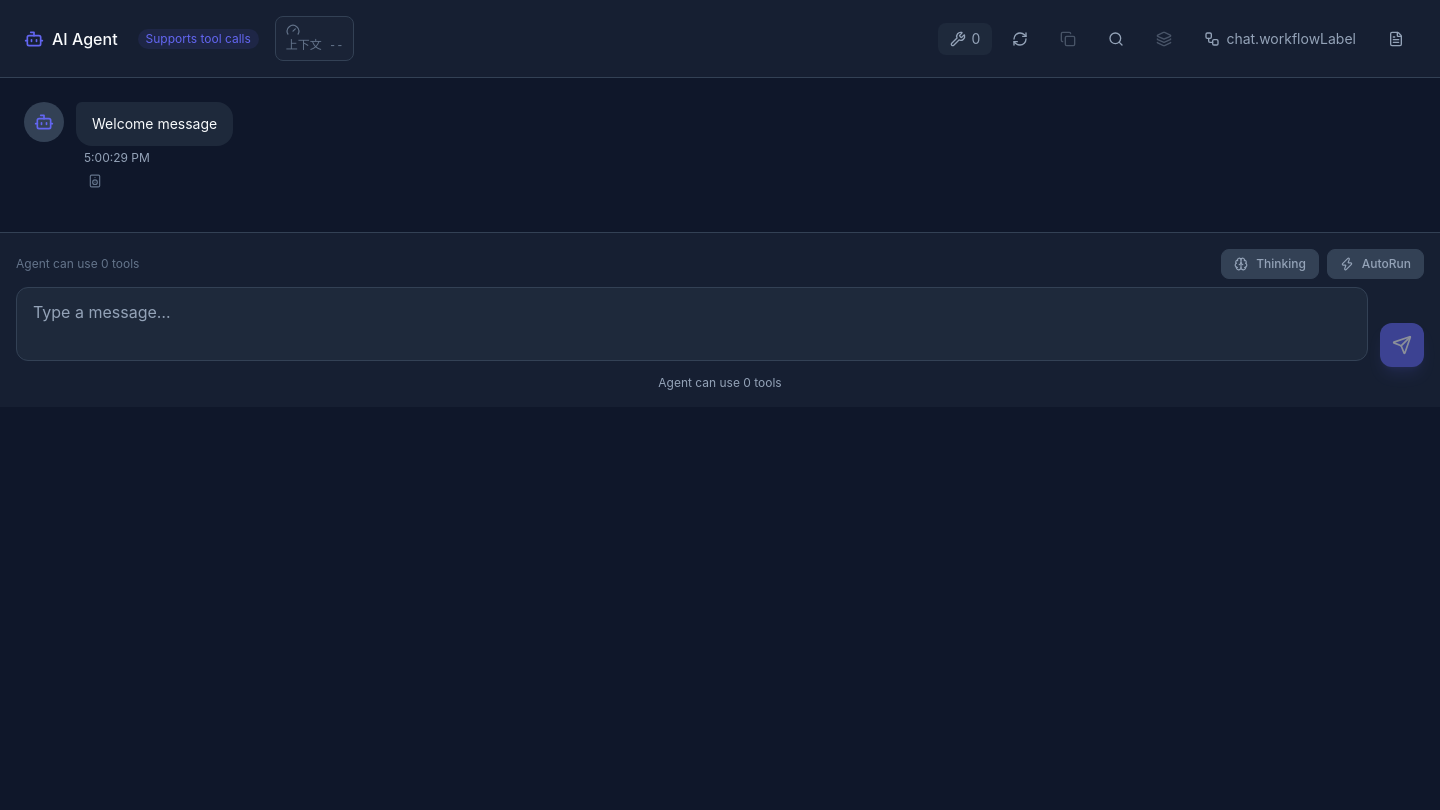
Test: AgentChat › appends the user message to the chat on send
Type "Hello" into the text box with placeholder "Type a message…". click: (692, 324)
box: [16,287,1368,361]
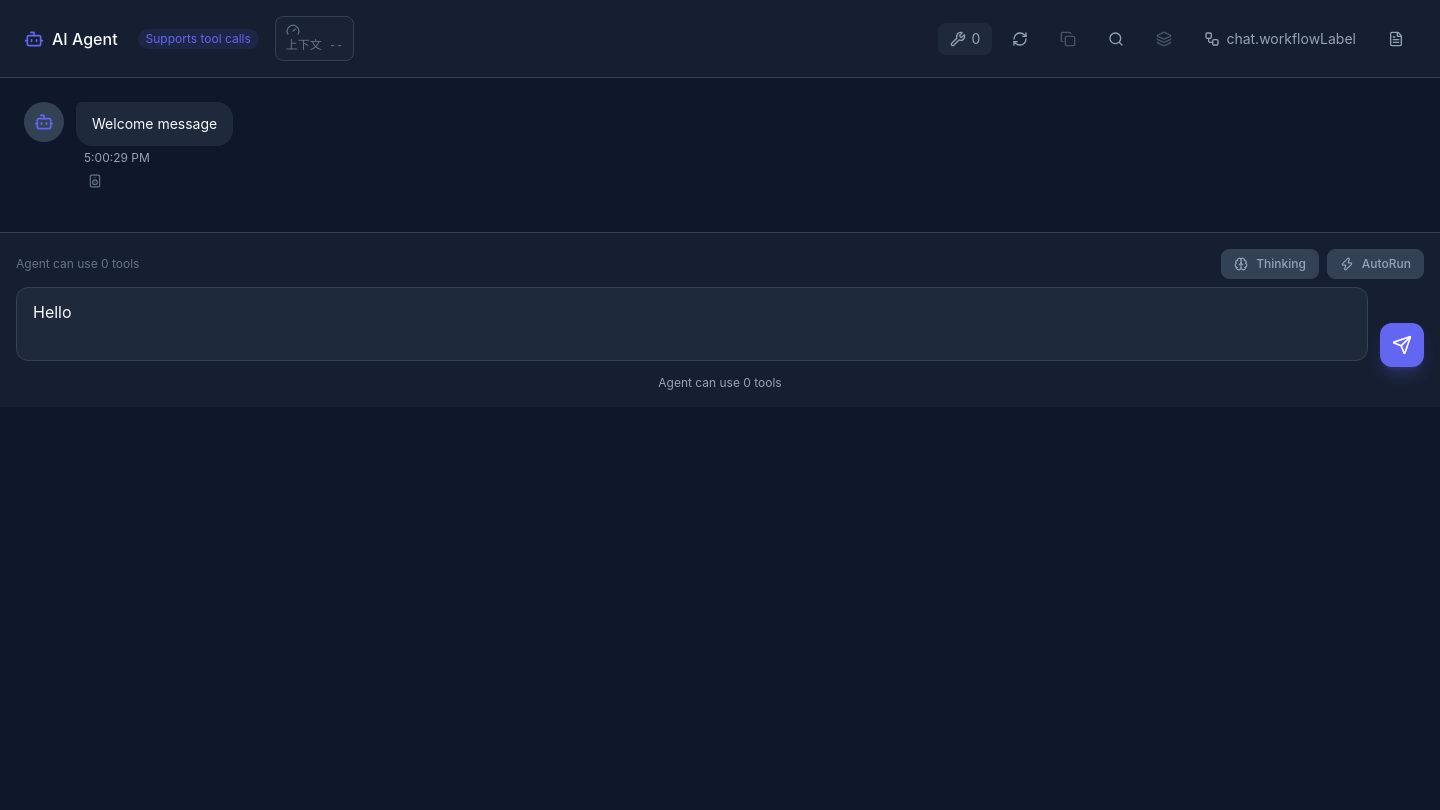
Click the button titled "Send". click: (1402, 345)
box: [1380,323,1424,367]
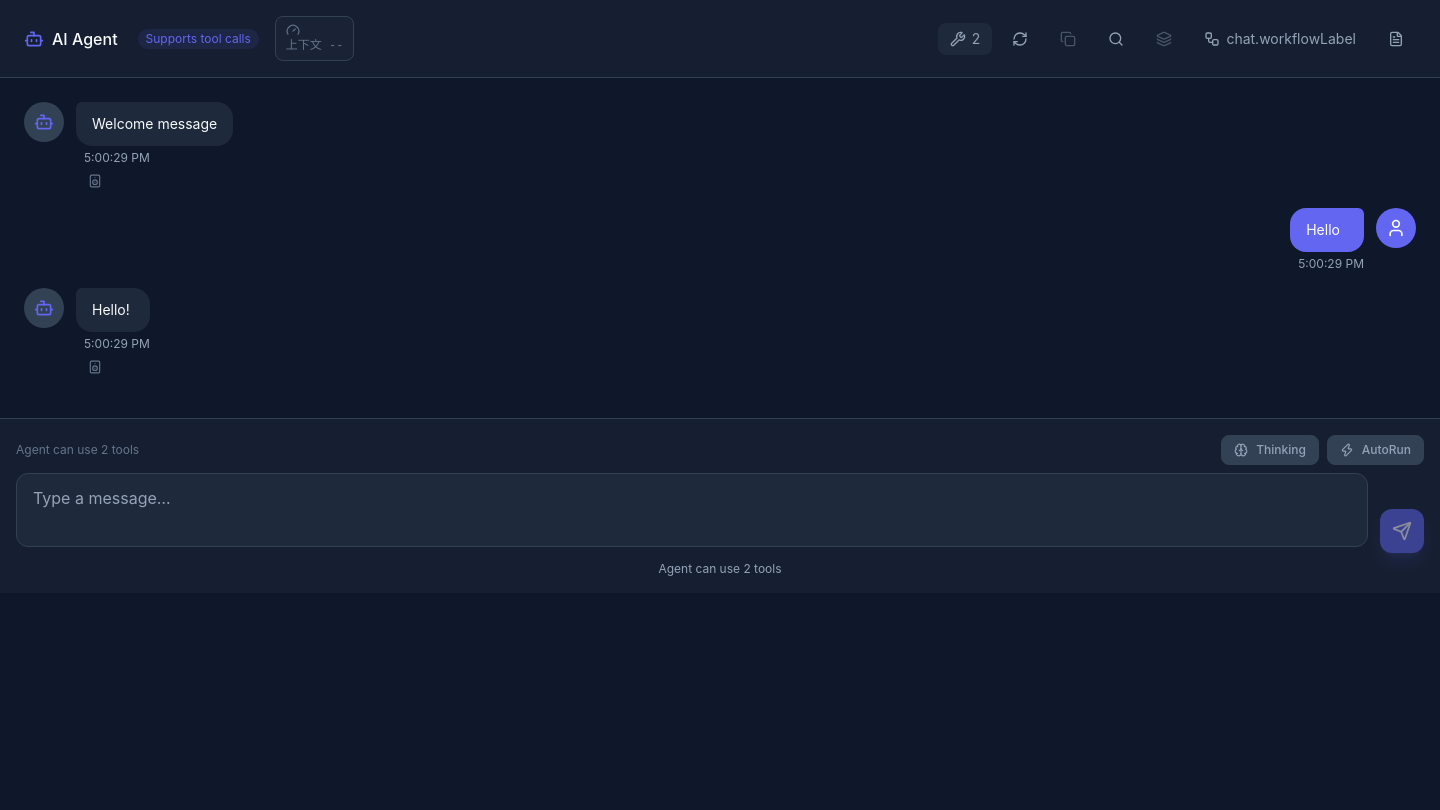
Now the text "Hello" is shown, box [1306,221,1340,238]
